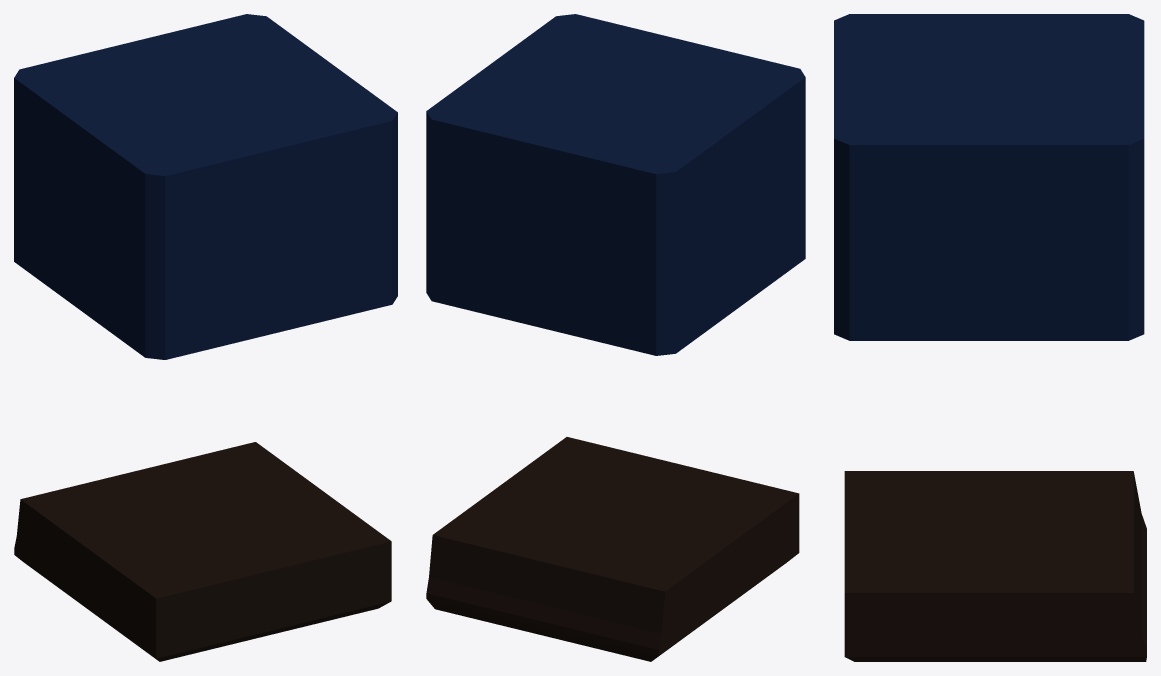
Rendered from left.obj.
The picture shows the model from 3 angles, left to right: view 1: azimuth 30°, elevation 25°; view 2: azimuth 150°, elevation 25°; view 3: azimuth 270°, elevation 25°; orthographic projection. The views are drawn at different scales.
Visible parts, largest first — view 1: Meshpart2, Meshpart1; view 2: Meshpart2, Meshpart1; view 3: Meshpart2, Meshpart1.
Part boxes in pixels (x1,y1,x2,y2): Meshpart2: [14, 14, 397, 359]; Meshpart1: [14, 442, 391, 661]; Meshpart2: [426, 14, 805, 355]; Meshpart1: [426, 437, 799, 661]; Meshpart2: [834, 14, 1144, 340]; Meshpart1: [844, 471, 1146, 661].
Size of the model in its own units: 1.12 by 2.1 by 1.13.
